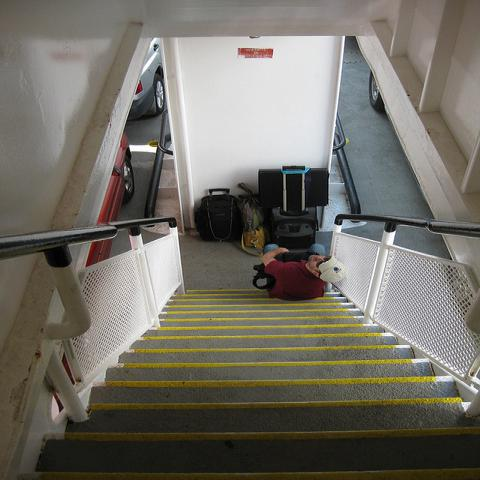car: (126, 36, 166, 121)
